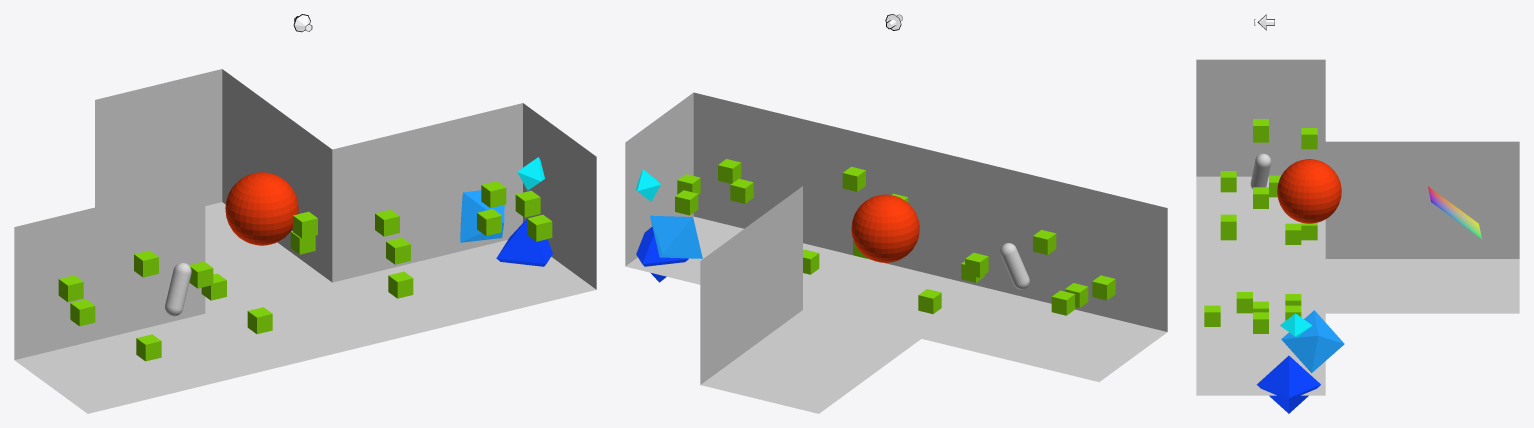
File: rays.glb
3 views of the same model, side by side, from view 1: azimuth 30°, elevation 25°; view 2: azimuth 150°, elevation 25°; view 3: azimuth 270°, elevation 25° (orthographic). The views are drawn at different scales.
Visible parts, largest first — view 1: Cube, Sphere, Cube.022, Capsule, Cube.013, Cube.020, Cube.009, Cube.010, Cube.012, Cube.017, Cube.021, Cube.019 (+6 smaller); view 2: Cube, Sphere, Cube.022, Capsule, Cube.008, Cube.011, Cube.013, Cube.019, Cube.006, Cube.012, Cube.014, Cube.018 (+1 smaller); view 3: Cube, Cube.022, Sphere, Cube.023, Capsule, Cube.014, Cube.012, Cube.021, Cube.010, Cube.015, Cube.018, Cube.011 (+3 smaller).
Part boxes in pixels (x1,y1,x2,y2): Cube: (14, 69, 596, 413); Sphere: (225, 172, 298, 245); Cube.022: (460, 157, 552, 266); Capsule: (165, 262, 191, 316); Cube.013: (70, 299, 95, 326); Cube.020: (515, 190, 540, 217); Cube.009: (247, 307, 272, 334); Cube.010: (136, 334, 161, 361); Cube.012: (58, 275, 83, 302); Cube.017: (388, 271, 413, 298); Cube.021: (527, 214, 552, 241); Cube.019: (481, 181, 506, 207); Cube: (625, 92, 1167, 413); Sphere: (851, 194, 919, 262); Cube.022: (636, 169, 702, 282); Capsule: (1000, 243, 1029, 289); Cube.008: (965, 252, 988, 277); Cube.011: (1033, 230, 1056, 254); Cube.013: (1092, 275, 1115, 300); Cube.019: (675, 190, 698, 215); Cube.006: (918, 289, 941, 313); Cube.012: (1051, 290, 1074, 315); Cube.014: (842, 166, 865, 191); Cube.018: (730, 178, 753, 203); Cube: (1196, 59, 1519, 395); Cube.022: (1256, 310, 1344, 413); Sphere: (1277, 159, 1341, 223); Cube.023: (1428, 186, 1481, 239); Capsule: (1250, 153, 1271, 189); Cube.014: (1220, 214, 1236, 236); Cube.012: (1301, 128, 1317, 149); Cube.021: (1204, 305, 1220, 326); Cube.010: (1220, 171, 1236, 192); Cube.015: (1285, 223, 1301, 244); Cube.018: (1236, 292, 1252, 313); Cube.011: (1253, 119, 1268, 140).
Size of the model in its own units: 33 by 20.28 by 20.
